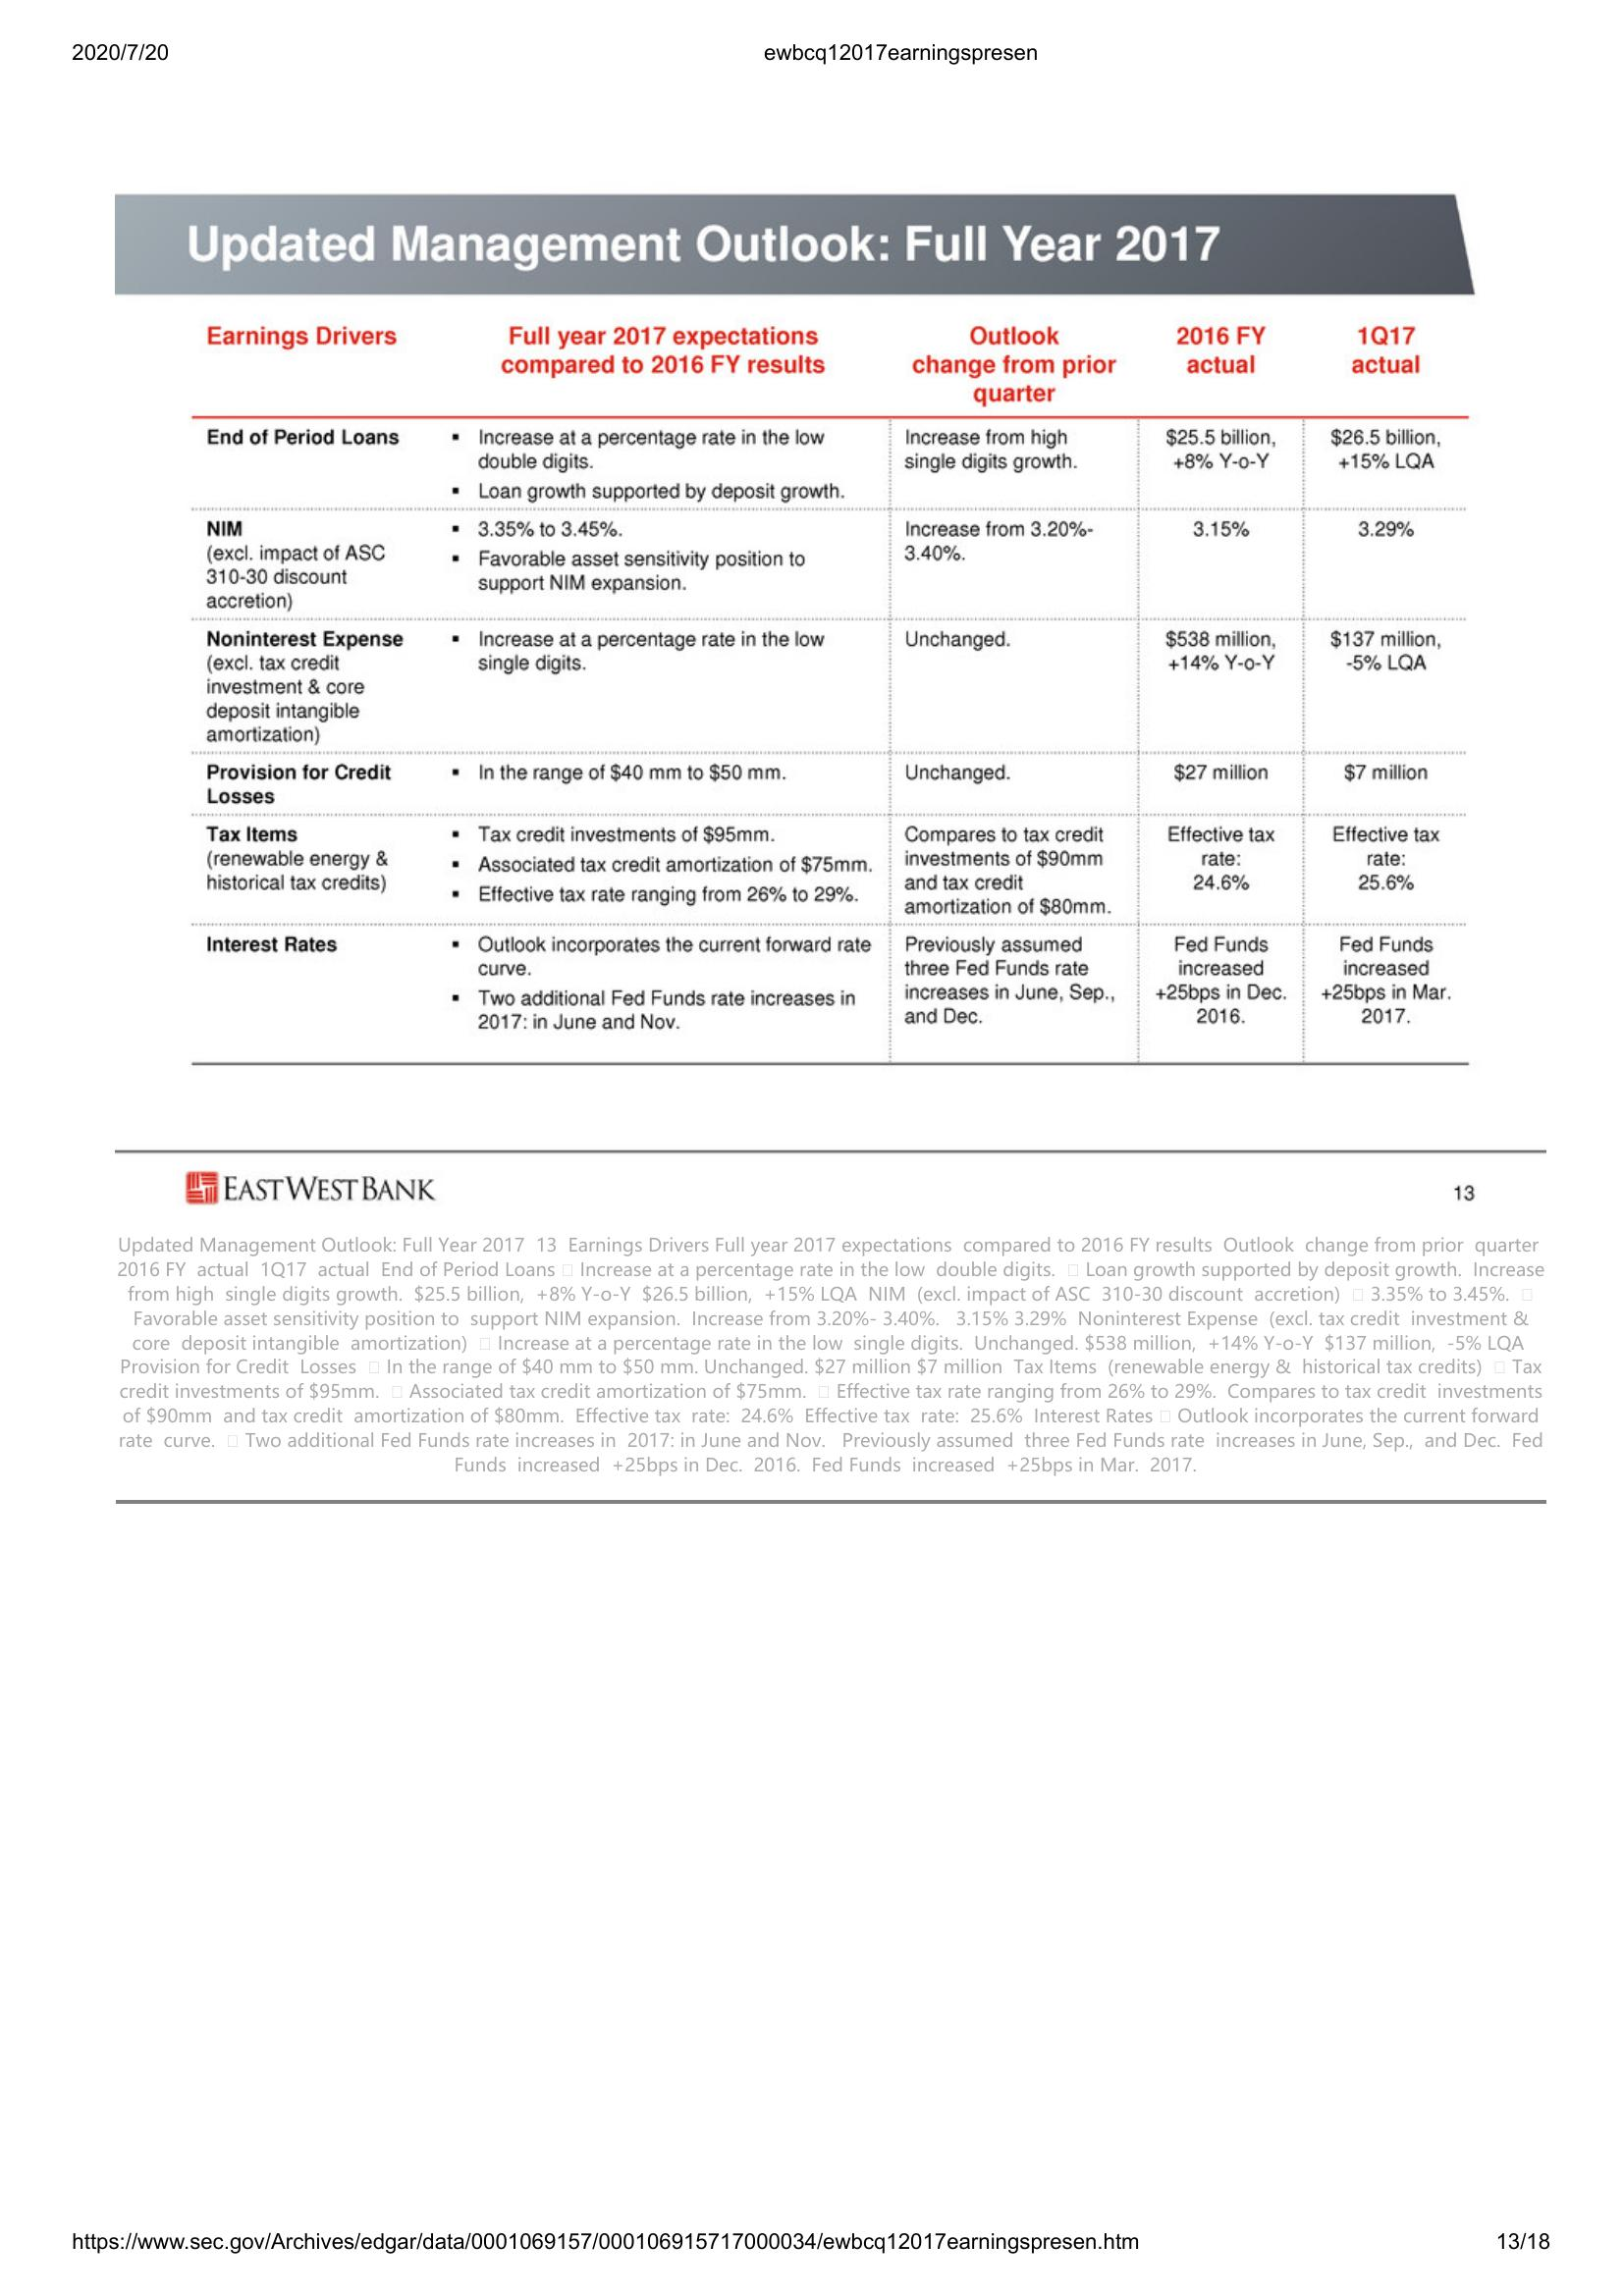table: (183, 312, 1488, 1073)
